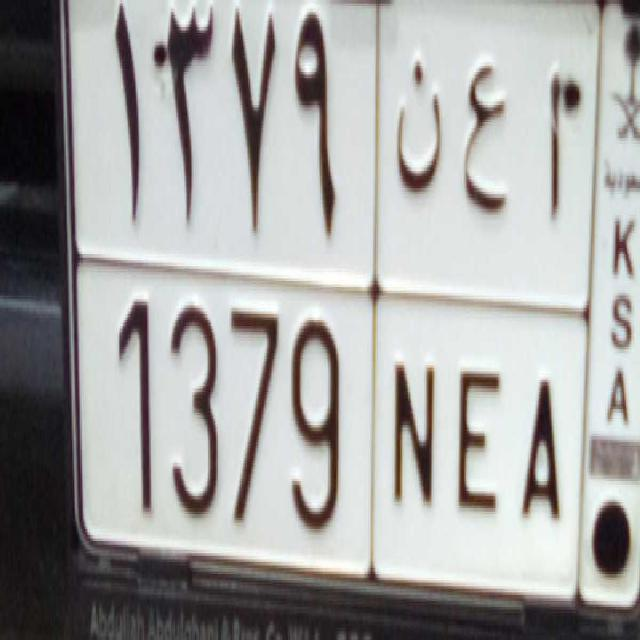license_plate: (74, 246, 576, 623)
